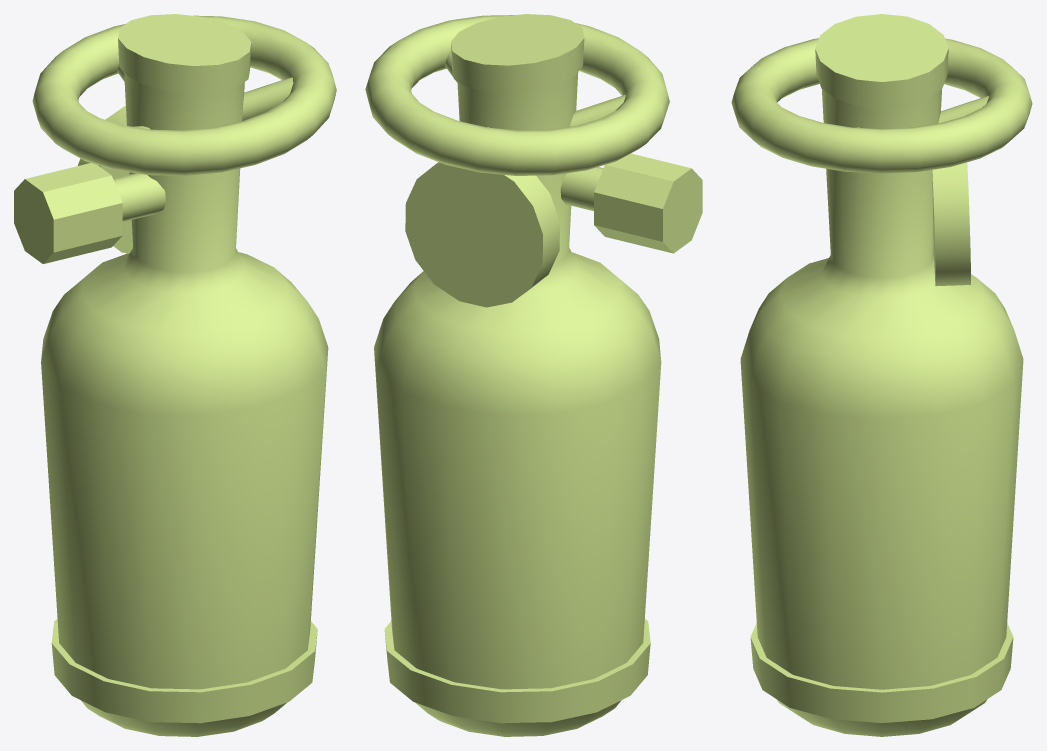
Rendered from bottle.FBX.
3 views of the same model, side by side, from view 1: azimuth 30°, elevation 25°; view 2: azimuth 150°, elevation 25°; view 3: azimuth 270°, elevation 25° (orthographic).
Visible parts, largest first — view 1: Bottle; view 2: Bottle; view 3: Bottle.
Boxes of the visible parts, box(x1,y1,x2,y2) form: Bottle: box(14, 14, 336, 736); Bottle: box(365, 14, 702, 736); Bottle: box(731, 14, 1032, 736).
Size of the model in its own units: 33.15 by 72.38 by 30.2.
